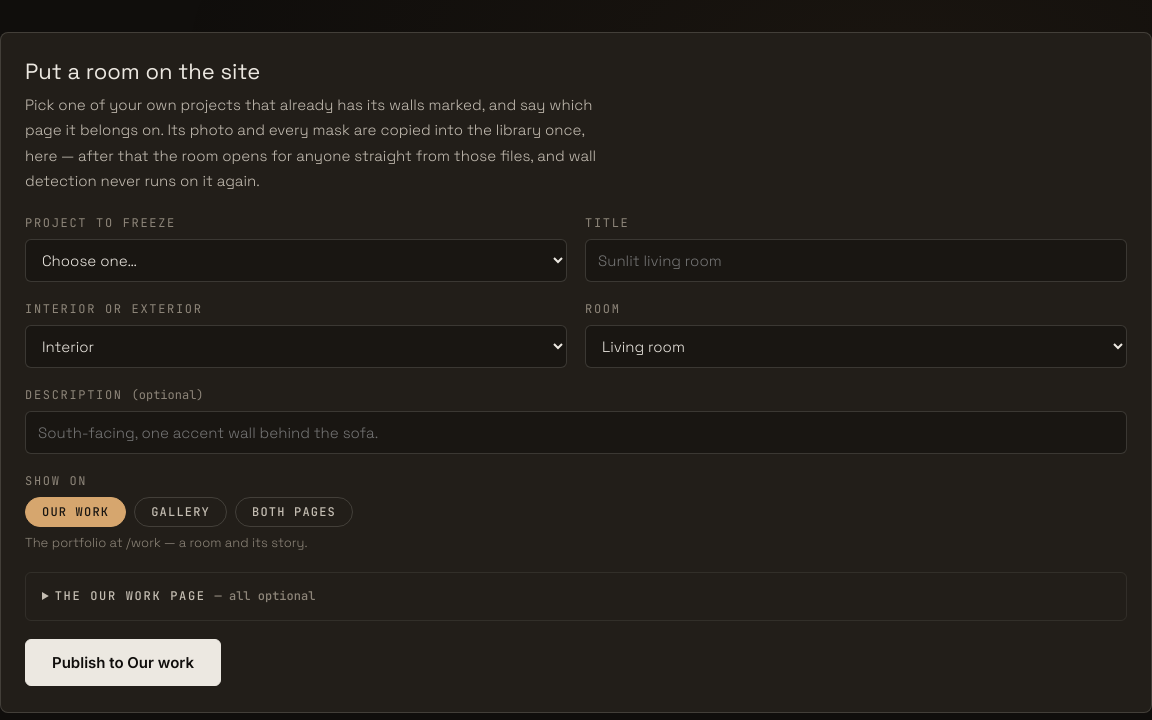
Test: FreeProjectLibrary — choosing the page › names the destination on the button, so it is never a surprise
Expected: the button "Publish to Our work" is shown, [25,639,221,686]
Click the button "Gallery".
click(181, 512)  # box [134,497,227,527]
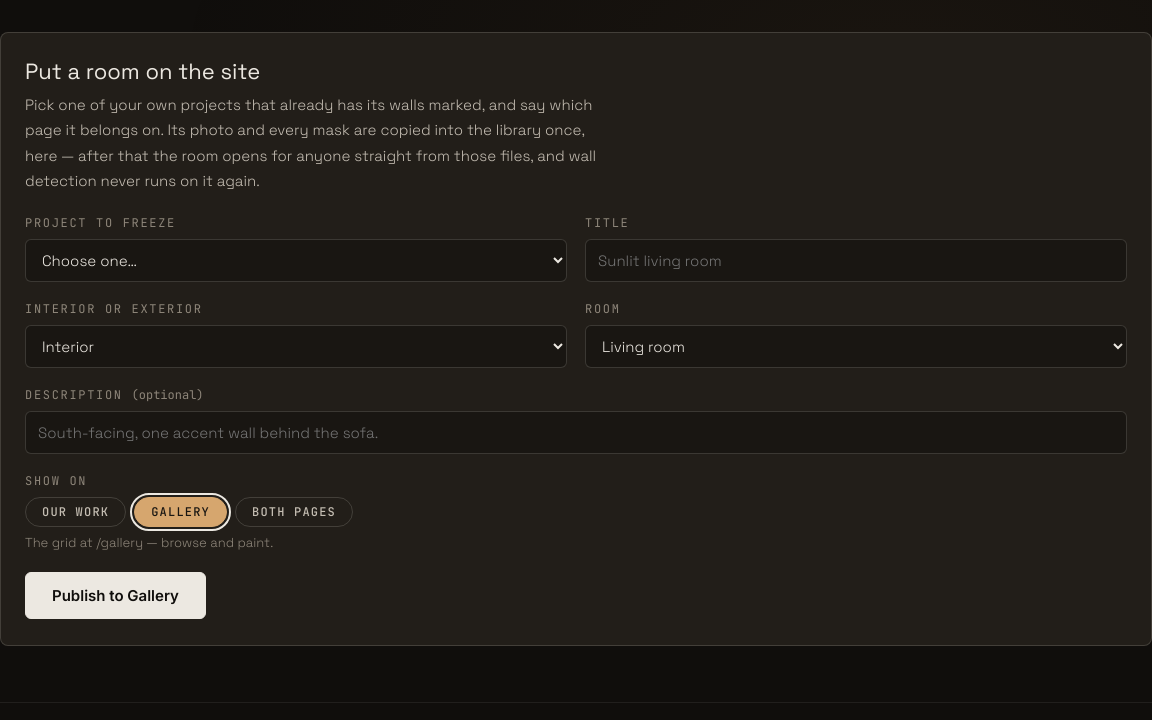
Expected: the button "Publish to Gallery" is shown, [25,572,206,619]
